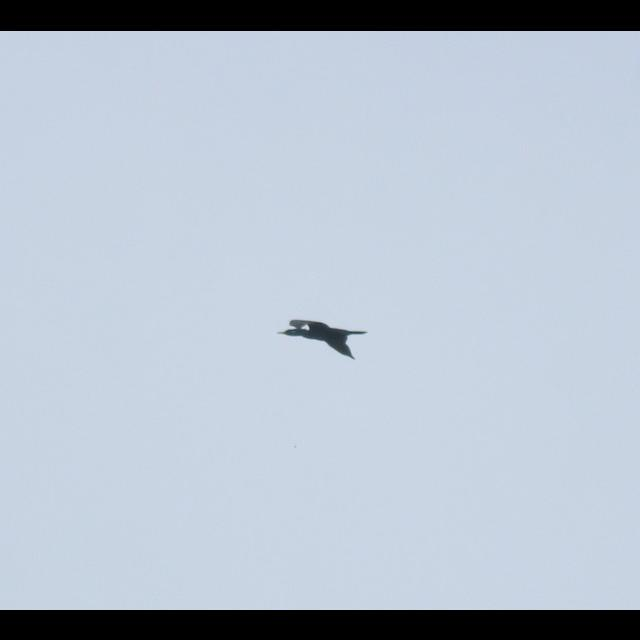cormorant: (276, 315, 368, 361)
